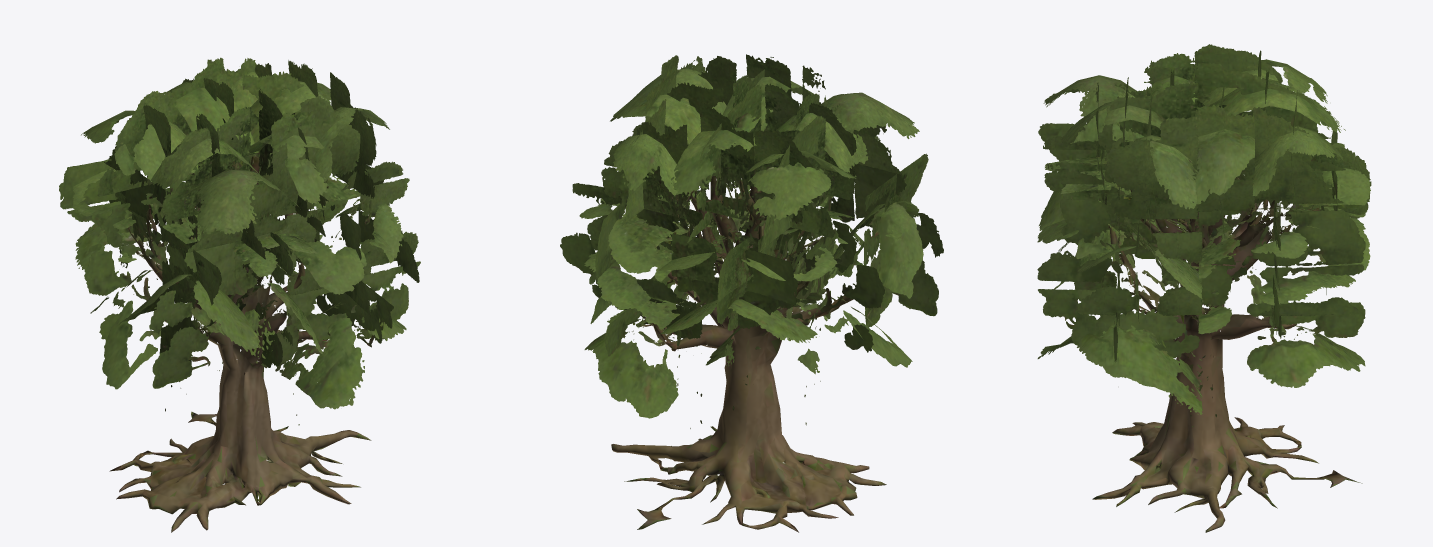
The model's file is tree-1505-near.glb.
3 views of the same model, side by side, from view 1: azimuth 30°, elevation 25°; view 2: azimuth 150°, elevation 25°; view 3: azimuth 270°, elevation 25° (orthographic). The views are drawn at different scales.
Parts seen in each view (by area): view 1: Foliage, Wood; view 2: Foliage, Wood; view 3: Foliage, Wood.
Boxes of the visible parts, <box> form: Foliage: <box>59,57,420,425</box>; Wood: <box>109,152,371,532</box>; Foliage: <box>560,54,943,428</box>; Wood: <box>611,169,886,532</box>; Foliage: <box>1037,44,1371,426</box>; Wood: <box>1092,177,1362,532</box>.
Size of the model in its own units: 10.83 by 12.6 by 10.61.
Materials: 2 (2 with a texture image).
